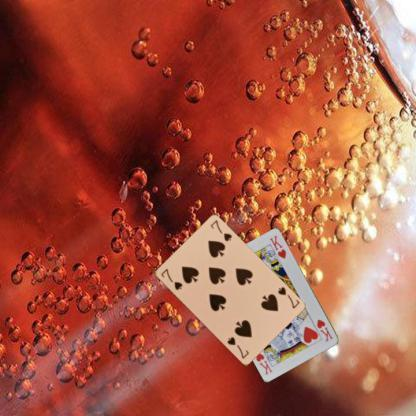7s: (274, 284, 300, 310), (158, 266, 183, 292)
Kh: (314, 316, 334, 344)
